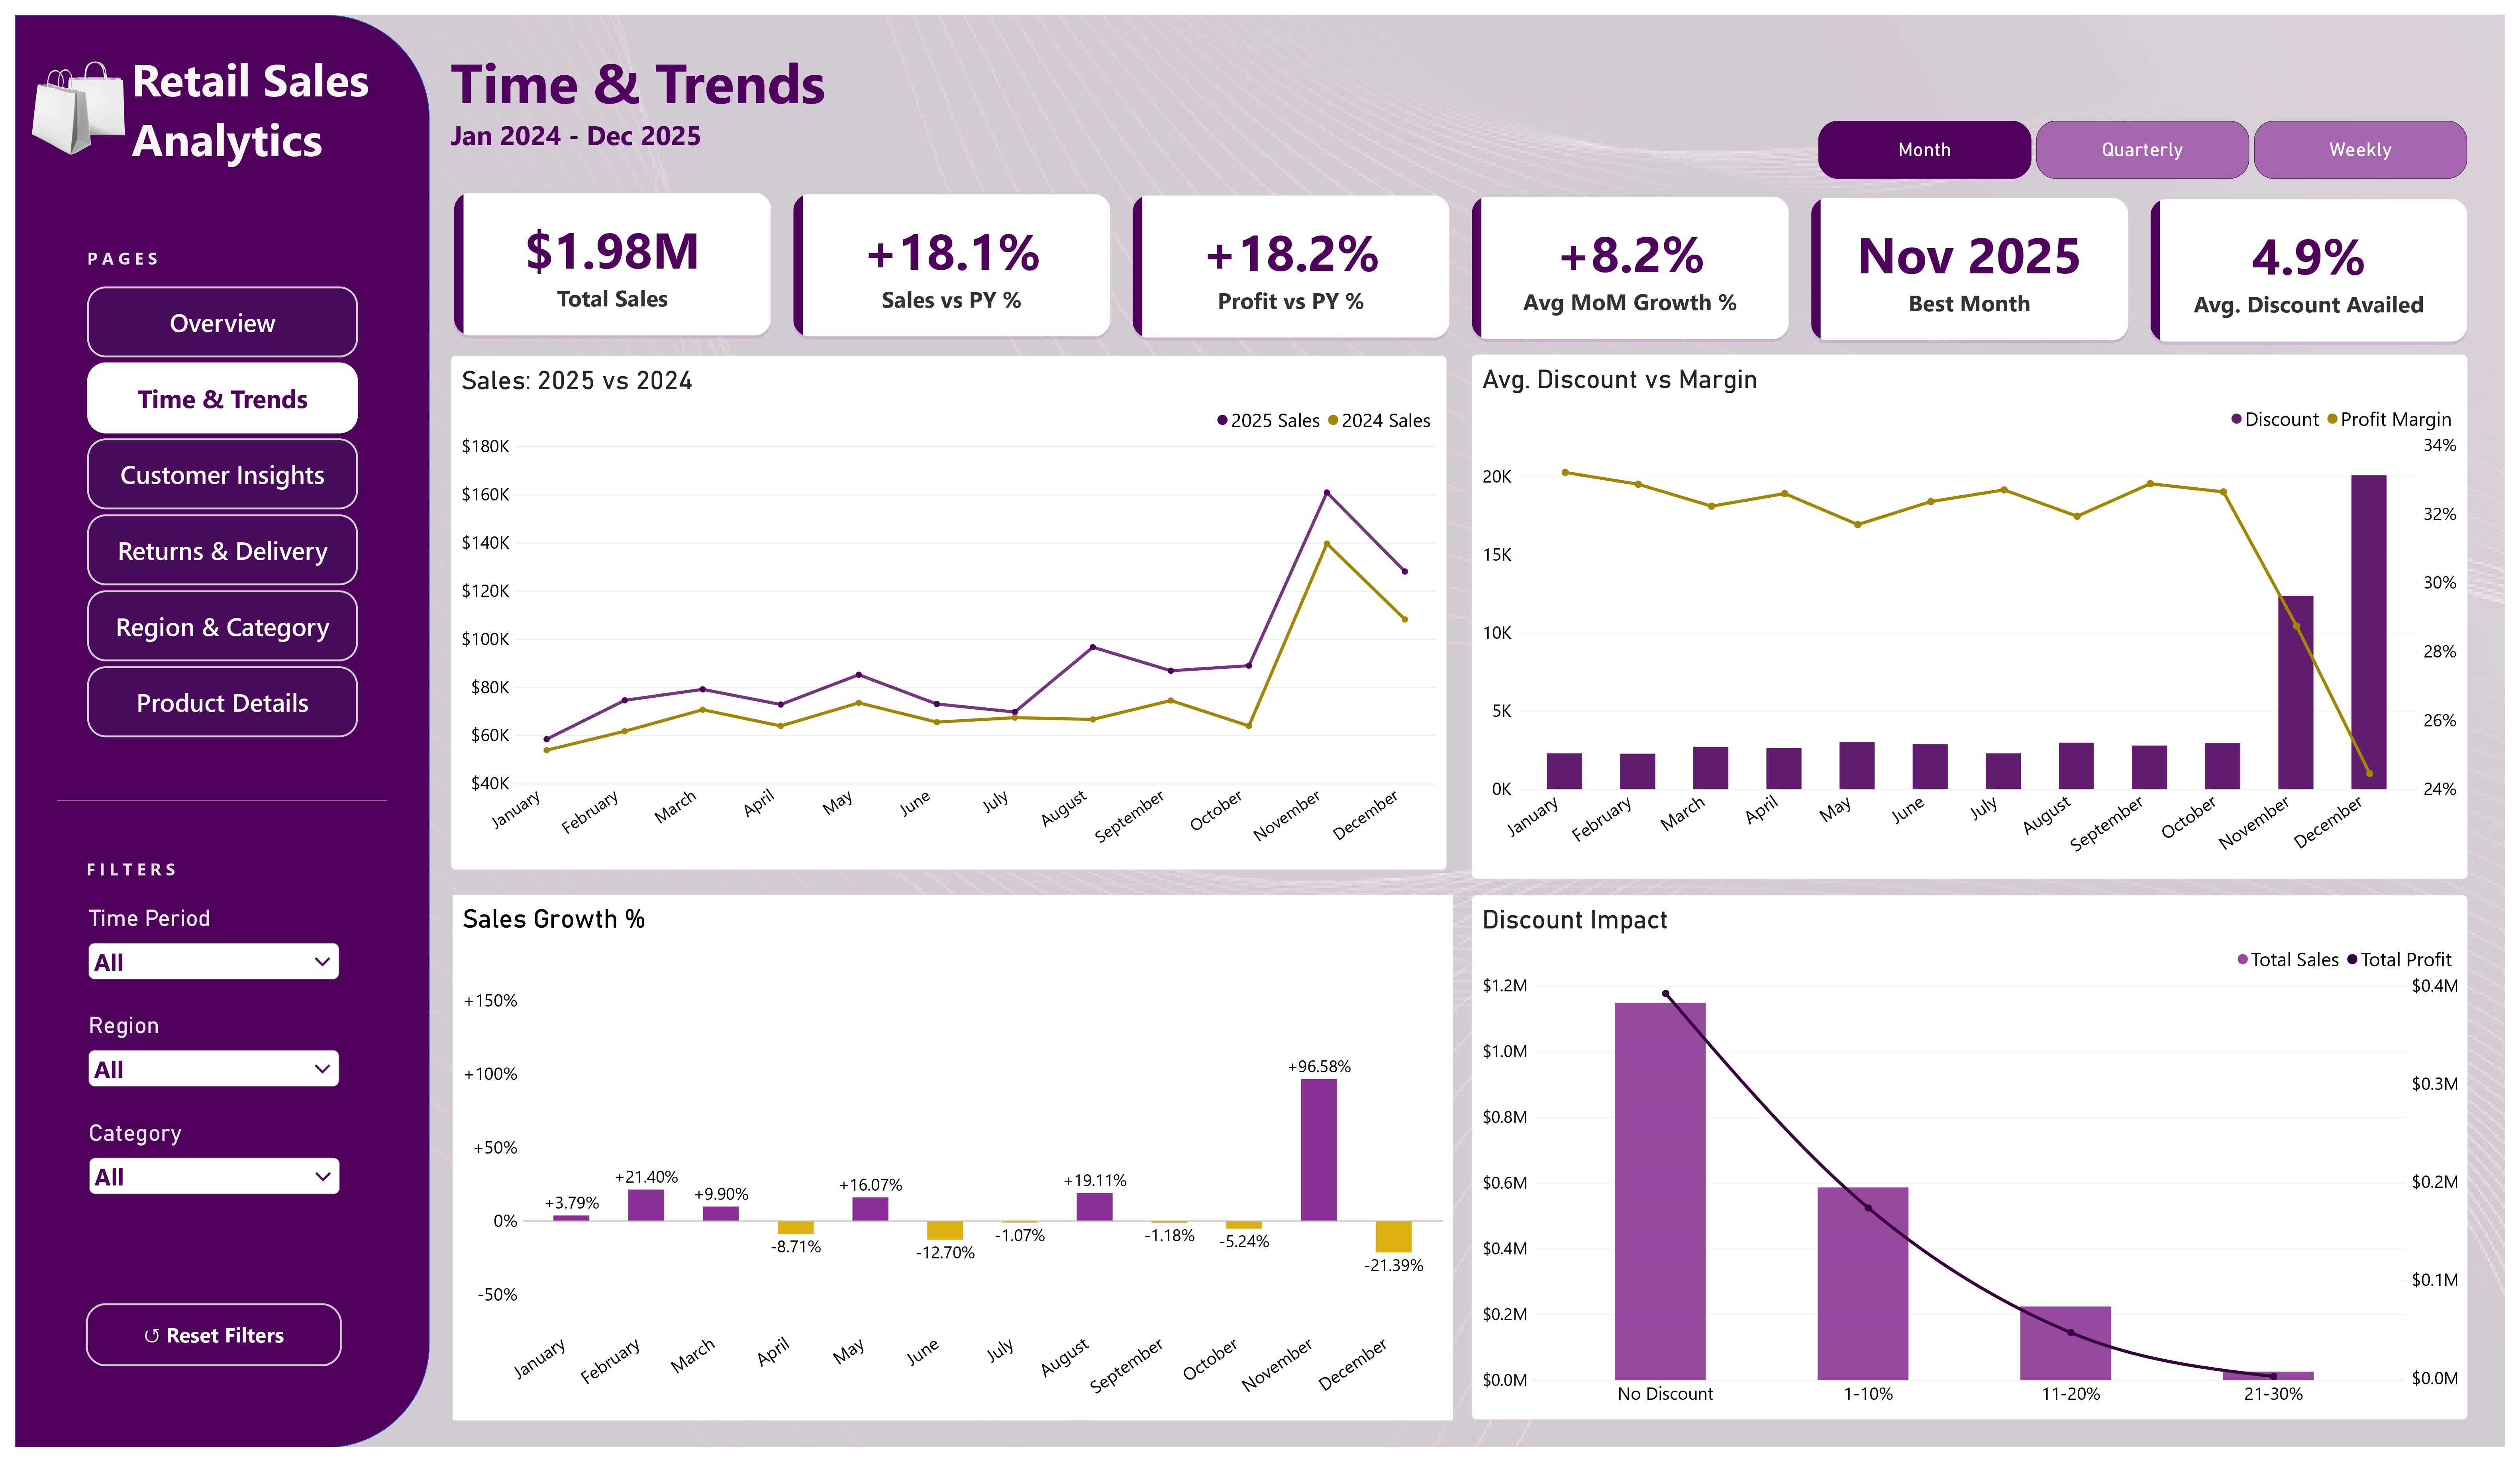

Layout of this report page (visuals, bound fields, positions):
{"tool":"powerbi","page":{"name":"Time & Trends","canvas":[4000,2300],"ordinal":1},"visuals":[{"type":"shape","box":[0,0,666.3,2300.8],"z":0},{"type":"textbox","box":[186.7,53.3,419.4,215.6],"z":1000},{"type":"image","box":[0,35.3,203.8,227.3],"z":2000},{"type":"pageNavigator","box":[115.6,435.6,435.6,724.4],"z":3000},{"type":"textbox","box":[700,46.7,1236.7,143.3],"z":4000},{"type":"textbox","box":[700,163.3,420,70],"z":5000},{"type":"textbox","box":[116,372,132,40],"z":6000},{"type":"shape","box":[67.5,1150,530,222.5],"z":7000},{"type":"textbox","box":[115,1352.5,145,40],"z":8000},{"type":"listSlicer","title":"Time Period","fields":{"Values":["Date.Year"]},"box":[101.8,1413.6,435,160],"z":9000},{"type":"listSlicer","title":"Region","fields":{"Values":["Table1.region"]},"box":[102.2,1586.2,435,160],"z":10000},{"type":"listSlicer","title":"Category","fields":{"Values":["Table1.product_category"]},"box":[102.5,1758.8,435,160],"z":11000},{"type":"actionButton","box":[113.8,2068.8,411.2,101.2],"z":12000},{"type":"cardVisual","fields":{"Data":["Table1.Total Sales"]},"box":[700,280,520,240],"z":13000},{"type":"cardVisual","fields":{"Data":["Table1.Sales vs PY %"]},"box":[1245,282,520,240],"z":14000},{"type":"cardVisual","title":"Average Order Value","fields":{"Data":["Table1.Avg MoM Growth %"]},"box":[2335,286,520,240],"z":15000},{"type":"cardVisual","fields":{"Data":["Table1.Best Month"]},"box":[2880,288,520,240],"z":16000},{"type":"cardVisual","fields":{"Data":["Table1.Profit vs PY %"]},"box":[1790,284,520,240],"z":17000},{"type":"cardVisual","fields":{"Data":["Table1.Avg. Discount Availed"]},"box":[3425,290,520,240],"z":18000},{"type":"lineChart","title":"Sales: 2025 vs 2024","fields":{"Category":["Date.Month"],"Y":["Table1.2025 Sales","Table1.2024 Sales"]},"box":[700,546.7,1600,826.7],"z":19000},{"type":"clusteredColumnChart","title":"Sales Growth %","fields":{"Category":["Date.Month"],"Y":["Table1.Sales MoM %"]},"box":[703.3,1413.3,1606.7,843.3],"z":20000},{"type":"advancedSlicerVisual","fields":{"Values":["Parameter.Parameter"]},"box":[2896.7,170,1043.3,93.3],"z":21000},{"type":"lineClusteredColumnComboChart","title":"Discount Impact","fields":{"Category":["Table1.Discount Category"],"Y":["Table1.Total Sales"],"Y2":["Table1.Total Profit"]},"box":[2340,1413,1600,843],"z":22000},{"type":"lineClusteredColumnComboChart","title":"Avg. Discount vs Margin","fields":{"Category":["Date.Month"],"Y":["Sum(Table1.discount_pct)"],"Y2":["Table1.Profit Margin"]},"box":[2340,545,1600,843],"z":23000}]}

Visuals, with their boxes on the page's 4000x2300 design canvas (x1, y1, x2, y2). These are canvas units, not pixel positions in the 2520x1462 screenshot, which may show the page scaled, cropped or inside an application window:
shape: (x1=0, y1=0, x2=666, y2=2301)
textbox: (x1=187, y1=53, x2=606, y2=269)
image: (x1=0, y1=35, x2=204, y2=263)
pageNavigator: (x1=116, y1=436, x2=551, y2=1160)
textbox: (x1=700, y1=47, x2=1937, y2=190)
textbox: (x1=700, y1=163, x2=1120, y2=233)
textbox: (x1=116, y1=372, x2=248, y2=412)
shape: (x1=68, y1=1150, x2=598, y2=1372)
textbox: (x1=115, y1=1352, x2=260, y2=1392)
"Time Period" listSlicer: (x1=102, y1=1414, x2=537, y2=1574)
"Region" listSlicer: (x1=102, y1=1586, x2=537, y2=1746)
"Category" listSlicer: (x1=102, y1=1759, x2=538, y2=1919)
actionButton: (x1=114, y1=2069, x2=525, y2=2170)
cardVisual - Table1.Total Sales: (x1=700, y1=280, x2=1220, y2=520)
cardVisual - Table1.Sales vs PY %: (x1=1245, y1=282, x2=1765, y2=522)
"Average Order Value" cardVisual: (x1=2335, y1=286, x2=2855, y2=526)
cardVisual - Table1.Best Month: (x1=2880, y1=288, x2=3400, y2=528)
cardVisual - Table1.Profit vs PY %: (x1=1790, y1=284, x2=2310, y2=524)
cardVisual - Table1.Avg. Discount Availed: (x1=3425, y1=290, x2=3945, y2=530)
"Sales: 2025 vs 2024" lineChart: (x1=700, y1=547, x2=2300, y2=1373)
"Sales Growth %" clusteredColumnChart: (x1=703, y1=1413, x2=2310, y2=2257)
advancedSlicerVisual - Parameter.Parameter: (x1=2897, y1=170, x2=3940, y2=263)
"Discount Impact" lineClusteredColumnComboChart: (x1=2340, y1=1413, x2=3940, y2=2256)
"Avg. Discount vs Margin" lineClusteredColumnComboChart: (x1=2340, y1=545, x2=3940, y2=1388)
